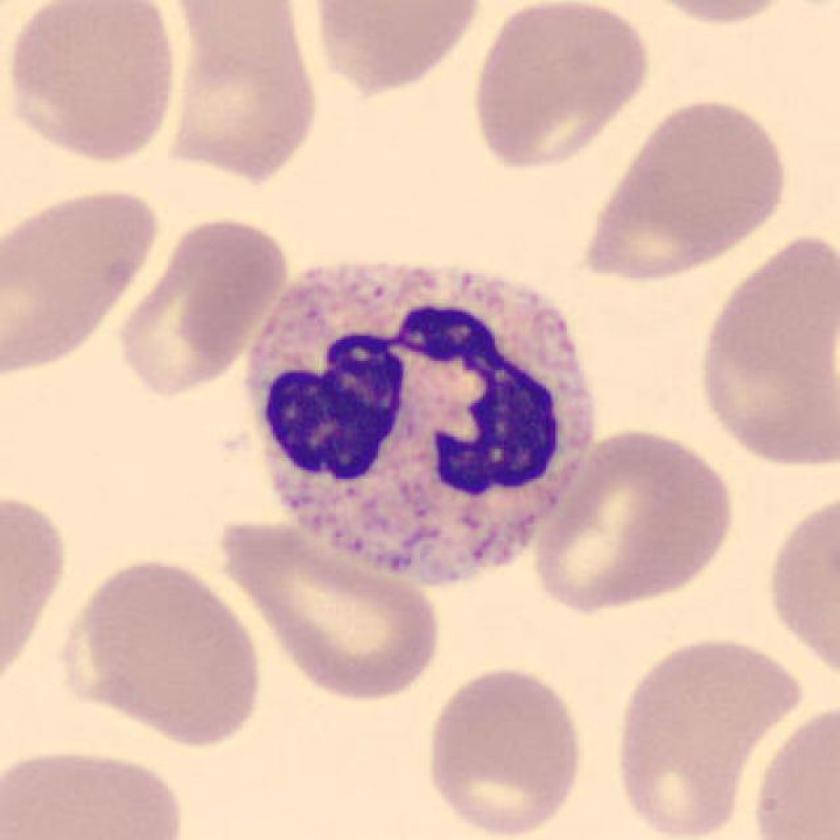neutrophil: (247, 263, 596, 587)
